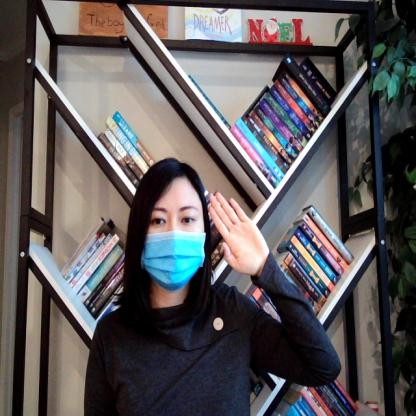hello: (204, 186, 275, 276)
